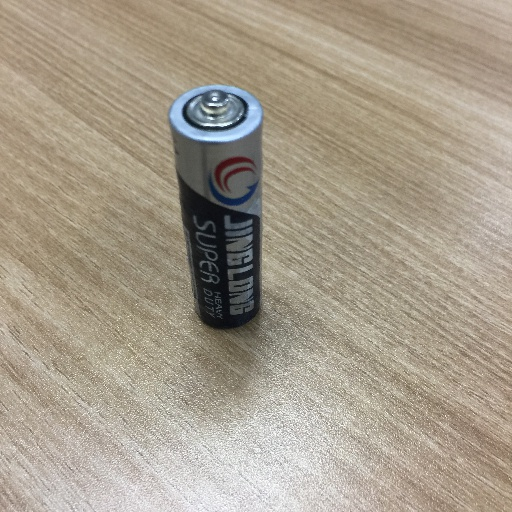Battery_0: (161, 68, 281, 338)
